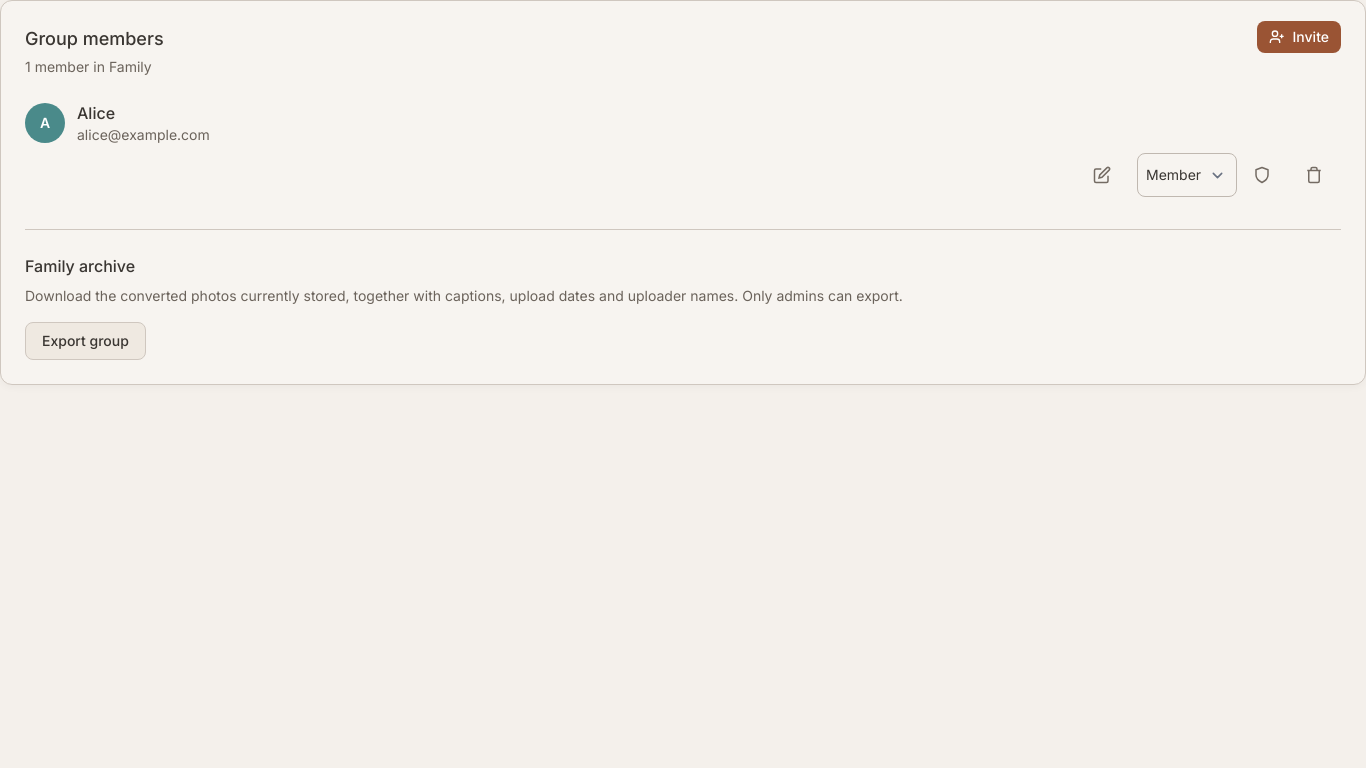
Test: MembersList display names › sets a display name and relabels the row with the resolved name
expect the text "Alice" is shown: met, box top-left (77, 103), bottom-right (115, 123)
Click the button named "Set Alice's display name in Family" at (1107,175), box top-left (1085, 153), bottom-right (1129, 197)
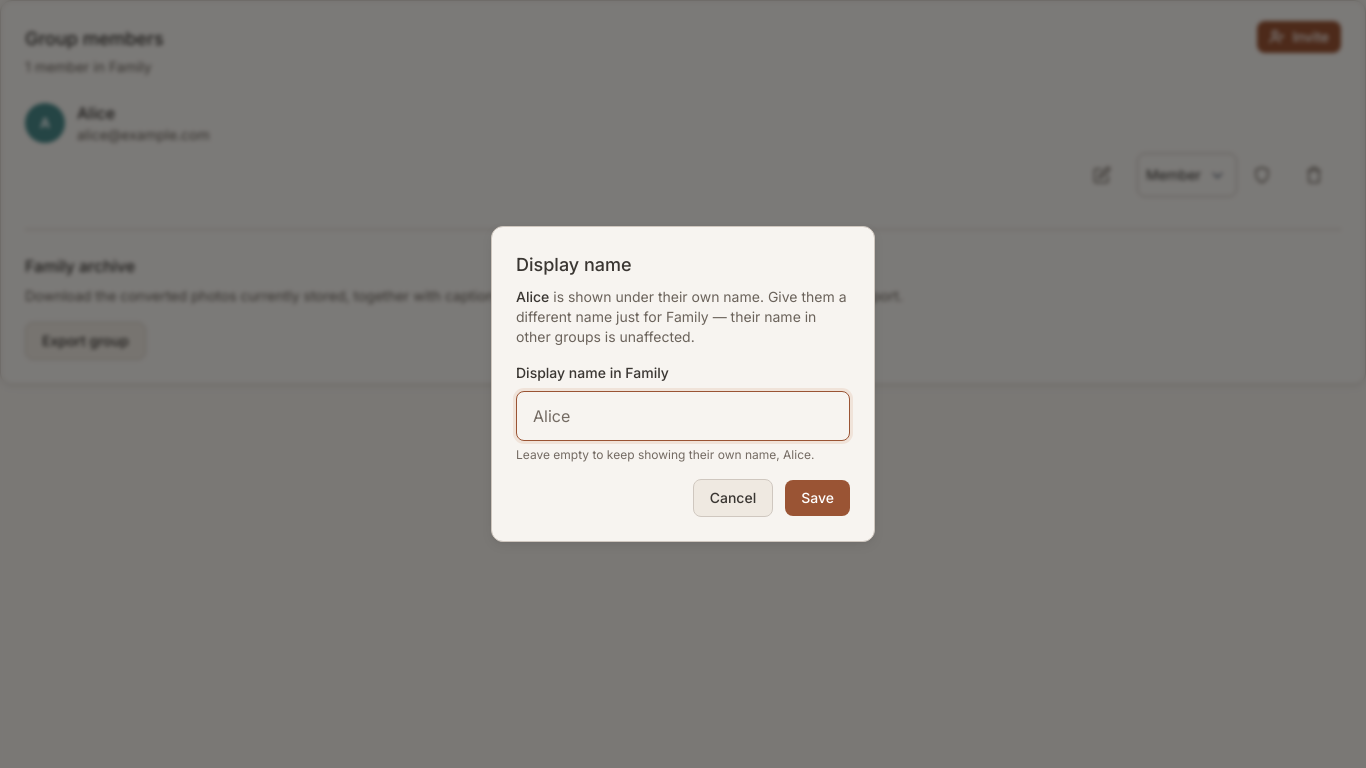
Type "  Ali  " into the field labelled "Display name in Family" at (683,416), box top-left (516, 391), bottom-right (850, 441)
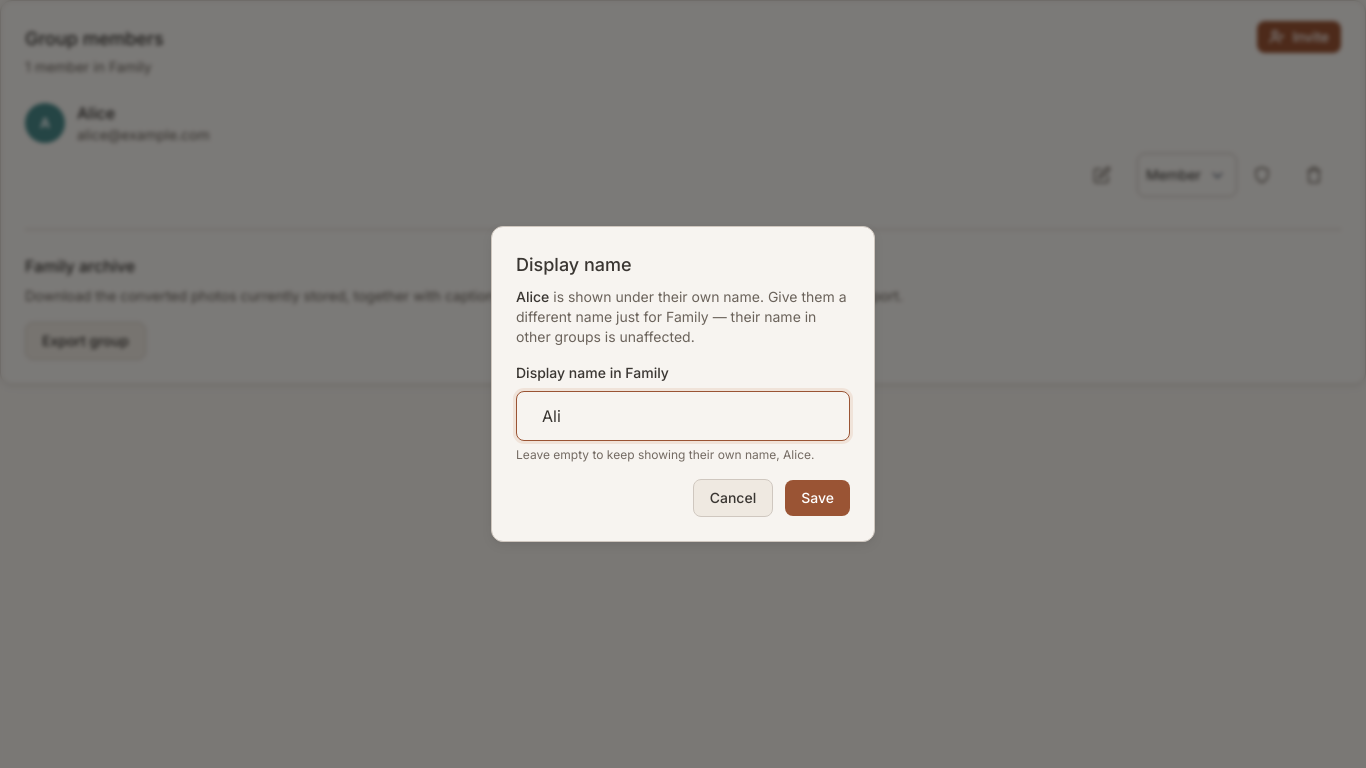
Click the button "Save" at (818,498), box top-left (785, 480), bottom-right (850, 516)
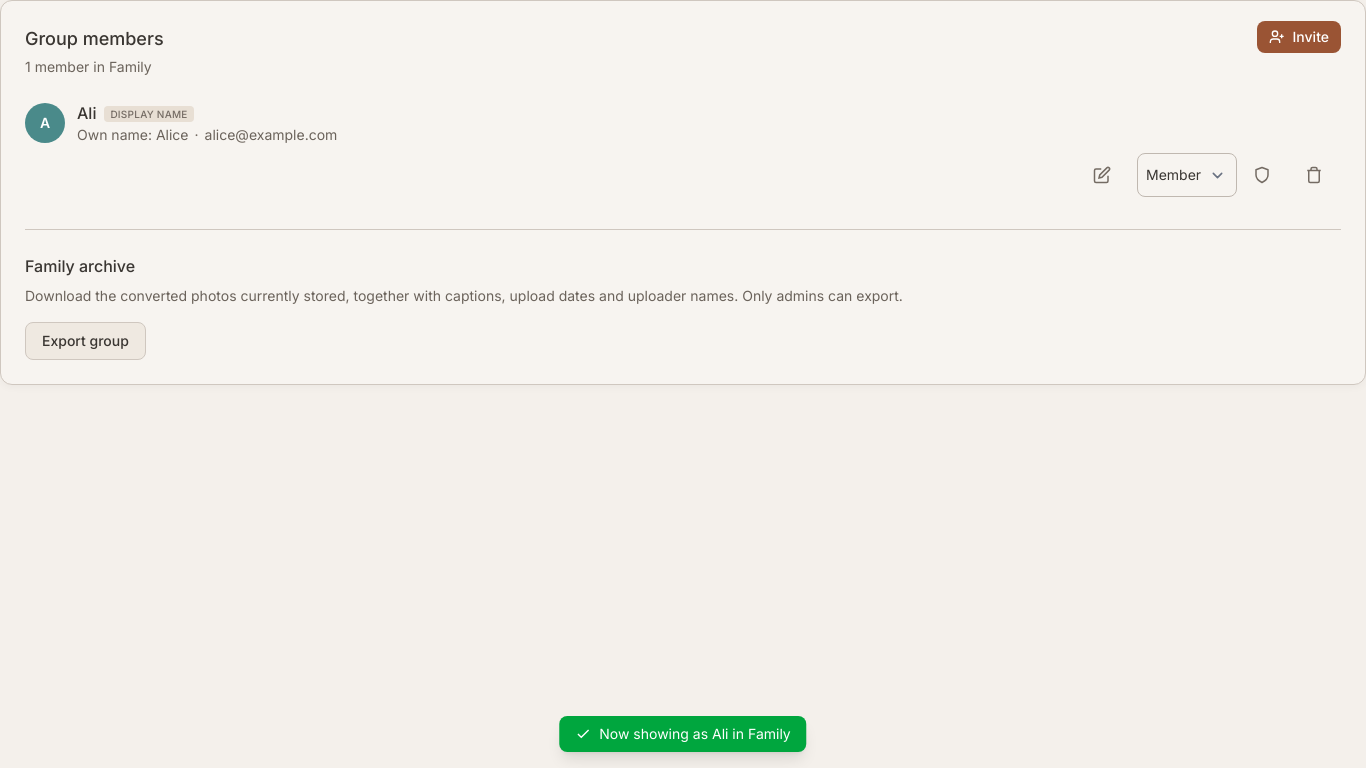
expect the text "Own name: Alice" is shown: met, box top-left (77, 126), bottom-right (188, 143)
expect the text "Display name" is shown once: met, box top-left (104, 106), bottom-right (194, 122)
expect the message reads "Now showing as Ali in Family": met, box top-left (599, 725), bottom-right (791, 742)
